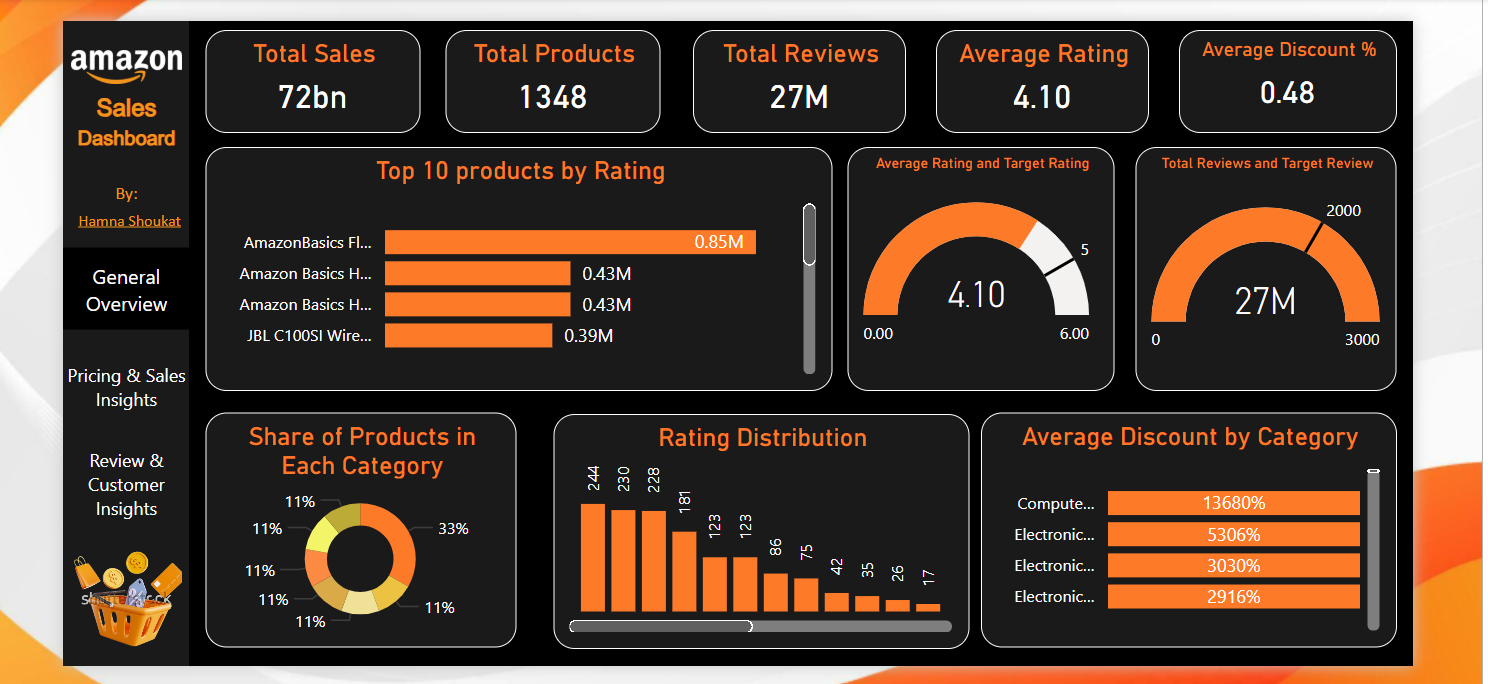

The page's visual inventory and layout, read from the dashboard file:
{"tool":"powerbi","page":{"name":"General Overview","canvas":[900,430],"ordinal":0},"visuals":[{"type":"shape","box":[0,0,84,430],"z":0},{"type":"card","title":"Total Sales","fields":{"Values":["amazon.Total Sales"]},"box":[95,6,143,69],"z":1000},{"type":"card","title":"Total Products","fields":{"Values":["amazon.Total Products"]},"box":[255,6,143,69],"z":2000},{"type":"card","title":"Total Reviews","fields":{"Values":["amazon.Total Reviews"]},"box":[420,6,142,69],"z":3000},{"type":"card","title":"Average Rating","fields":{"Values":["amazon.Average Rating"]},"box":[582,6,142,69],"z":4000},{"type":"card","title":"Average Discount %","fields":{"Values":["amazon.Average Discount %"]},"box":[744,6,145,69],"z":5000},{"type":"clusteredBarChart","title":"Top 10 products by Rating ","fields":{"Category":["amazon.product_name"],"Y":["Sum(amazon.rating_count)"]},"box":[95,84,418,163],"z":6000},{"type":"donutChart","title":"Share of Products in Each Category","fields":{"Category":["amazon.category"],"Y":["CountNonNull(amazon.product_id)"]},"box":[95,261,207,157],"z":7000},{"type":"gauge","fields":{"Y":["amazon.Average Rating"],"TargetValue":["amazon.Target Rating"]},"box":[523,84,178,163],"z":8000},{"type":"gauge","fields":{"Y":["amazon.Total Reviews"],"TargetValue":["amazon.Target Review"]},"box":[715,84,174,163],"z":9000},{"type":"clusteredColumnChart","title":"Rating Distribution ","fields":{"Y":["CountNonNull(amazon.product_id)"],"Category":["amazon.rating"]},"box":[327,262,277,157],"z":10000},{"type":"hundredPercentStackedBarChart","title":"Average Discount by Category","fields":{"Category":["amazon.category"],"Y":["Sum(amazon.discount_percentage)"]},"box":[612,261,277,157],"z":11000},{"type":"image","box":[0,0,84,62],"z":12000},{"type":"textbox","box":[0,41,84,125],"z":13000},{"type":"image","box":[0,344,84,86],"z":14000},{"type":"pageNavigator","box":[0,151,84,185],"z":15000}]}

Visuals, with their boxes on the page's 900x430 design canvas (x1, y1, x2, y2). These are canvas units, not pixel positions in the 1488x684 screenshot, which may show the page scaled, cropped or inside an application window:
shape: {"left": 0, "top": 0, "right": 84, "bottom": 430}
"Total Sales" card: {"left": 95, "top": 6, "right": 238, "bottom": 75}
"Total Products" card: {"left": 255, "top": 6, "right": 398, "bottom": 75}
"Total Reviews" card: {"left": 420, "top": 6, "right": 562, "bottom": 75}
"Average Rating" card: {"left": 582, "top": 6, "right": 724, "bottom": 75}
"Average Discount %" card: {"left": 744, "top": 6, "right": 889, "bottom": 75}
"Top 10 products by Rating " clusteredBarChart: {"left": 95, "top": 84, "right": 513, "bottom": 247}
"Share of Products in Each Category" donutChart: {"left": 95, "top": 261, "right": 302, "bottom": 418}
gauge - amazon.Average Rating x amazon.Target Rating: {"left": 523, "top": 84, "right": 701, "bottom": 247}
gauge - amazon.Total Reviews x amazon.Target Review: {"left": 715, "top": 84, "right": 889, "bottom": 247}
"Rating Distribution " clusteredColumnChart: {"left": 327, "top": 262, "right": 604, "bottom": 419}
"Average Discount by Category" hundredPercentStackedBarChart: {"left": 612, "top": 261, "right": 889, "bottom": 418}
image: {"left": 0, "top": 0, "right": 84, "bottom": 62}
textbox: {"left": 0, "top": 41, "right": 84, "bottom": 166}
image: {"left": 0, "top": 344, "right": 84, "bottom": 430}
pageNavigator: {"left": 0, "top": 151, "right": 84, "bottom": 336}
